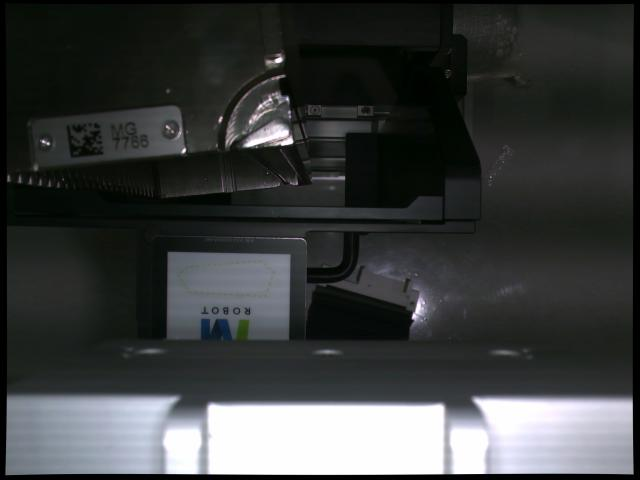jig_latch: (238, 119, 290, 148)
